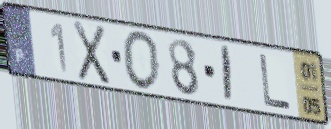1: (49, 22, 69, 75)
8: (166, 37, 201, 98)
I: (221, 43, 234, 106)
L: (257, 52, 293, 113)
O: (121, 29, 163, 94)
X: (71, 18, 112, 88)
